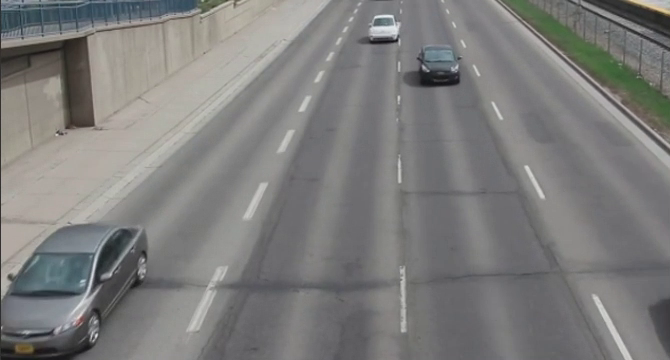car: (1, 223, 160, 360), (416, 44, 464, 86), (364, 12, 404, 45)
